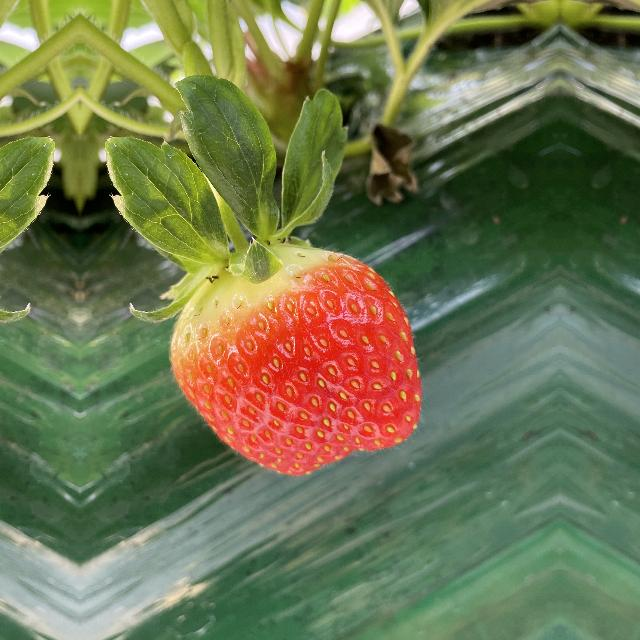Health_100: (152, 251, 438, 475)
